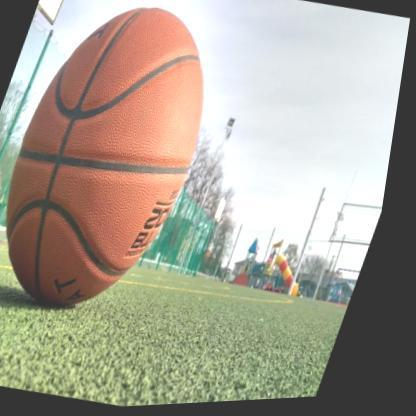basketball: (0, 0, 245, 327)
